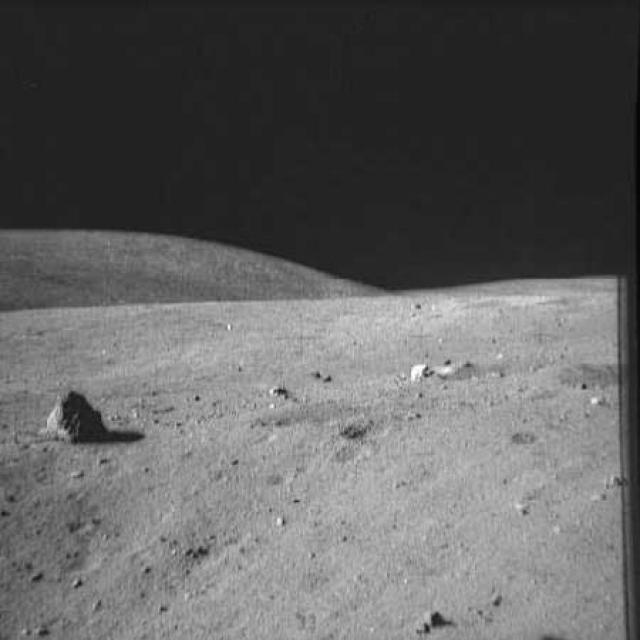crater: (559, 358, 622, 397), (338, 415, 398, 446), (59, 549, 100, 579), (334, 445, 378, 464), (508, 430, 548, 450)
rock: (45, 386, 118, 452), (412, 599, 456, 637), (406, 359, 440, 389), (599, 466, 624, 496), (307, 365, 332, 386), (266, 386, 291, 399), (273, 513, 293, 529)
